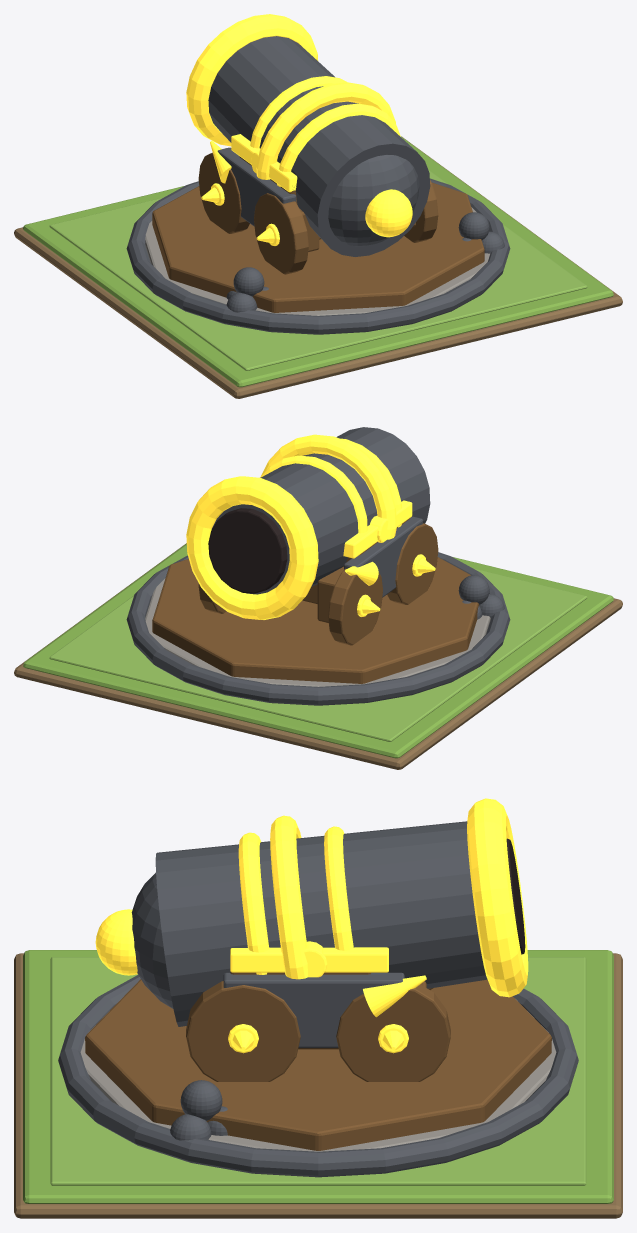
Rendered from cannon_lv7.glb.
3 renders of one model, top to bottom at view 1: azimuth 30°, elevation 25°; view 2: azimuth 150°, elevation 25°; view 3: azimuth 270°, elevation 25°, orthographic. The views are drawn at different scales.
Visible parts, largest first — view 1: TurntableWood, CannonBarrel, Base_Inner, Base_Grass, CN_BaseArmorRing, Base_Dirt, CannonBreech, MuzzleLip, CN_HeavyBreechRing, CannonWheel_-1_-1, TurntableStone, CannonWheel_-1_1 (+8 smaller); view 2: TurntableWood, Base_Inner, Base_Grass, CN_BaseArmorRing, CannonBarrel, MuzzleLip, Base_Dirt, BarrelBore, CN_HeavyBreechRing, CannonWheel_-1_1, TurntableStone, CannonWheel_-1_-1 (+7 smaller); view 3: TurntableWood, CannonBarrel, Base_Inner, Base_Grass, CN_BaseArmorRing, Base_Dirt, CannonWheel_1_-1, MuzzleLip, CannonWheel_1_1, CN_HeavyCheekShield_1, CN_HeavyBreechRing, TurntableStone (+10 smaller).
Part boxes in pixels (bbox=[...]): TurntableWood: bbox=[152, 182, 484, 312]; CannonBarrel: bbox=[208, 36, 430, 256]; Base_Inner: bbox=[49, 170, 587, 370]; Base_Grass: bbox=[23, 136, 613, 387]; CN_BaseArmorRing: bbox=[126, 178, 510, 334]; Base_Dirt: bbox=[14, 136, 622, 398]; CannonBreech: bbox=[328, 155, 419, 246]; MuzzleLip: bbox=[186, 14, 318, 146]; CN_HeavyBreechRing: bbox=[256, 82, 395, 179]; CannonWheel_-1_-1: bbox=[254, 193, 308, 274]; TurntableStone: bbox=[145, 207, 489, 315]; CannonWheel_-1_1: bbox=[198, 152, 249, 233]; TurntableWood: bbox=[152, 557, 479, 683]; Base_Inner: bbox=[49, 568, 587, 741]; Base_Grass: bbox=[23, 543, 613, 758]; CN_BaseArmorRing: bbox=[126, 552, 510, 705]; CannonBarrel: bbox=[211, 427, 430, 594]; MuzzleLip: bbox=[186, 476, 318, 619]; Base_Dirt: bbox=[14, 543, 622, 769]; BarrelBore: bbox=[208, 508, 287, 593]; CN_HeavyBreechRing: bbox=[261, 434, 396, 539]; CannonWheel_-1_1: bbox=[328, 568, 382, 645]; TurntableStone: bbox=[145, 578, 490, 686]; CannonWheel_-1_-1: bbox=[387, 523, 438, 604]; TurntableWood: bbox=[85, 979, 551, 1150]; CannonBarrel: bbox=[155, 821, 487, 1026]; Base_Inner: bbox=[50, 957, 586, 1185]; Base_Grass: bbox=[23, 950, 613, 1203]; CN_BaseArmorRing: bbox=[58, 975, 578, 1177]; Base_Dirt: bbox=[14, 953, 622, 1218]; CannonWheel_1_-1: bbox=[186, 981, 300, 1081]; MuzzleLip: bbox=[467, 798, 528, 997]; CannonWheel_1_1: bbox=[336, 984, 450, 1081]; CN_HeavyCheekShield_1: bbox=[223, 972, 404, 1047]; CN_HeavyBreechRing: bbox=[270, 815, 307, 979]; TurntableStone: bbox=[80, 999, 556, 1151].
Bounding box in the file's own units: 2.76 × 1.42 × 2.76.
